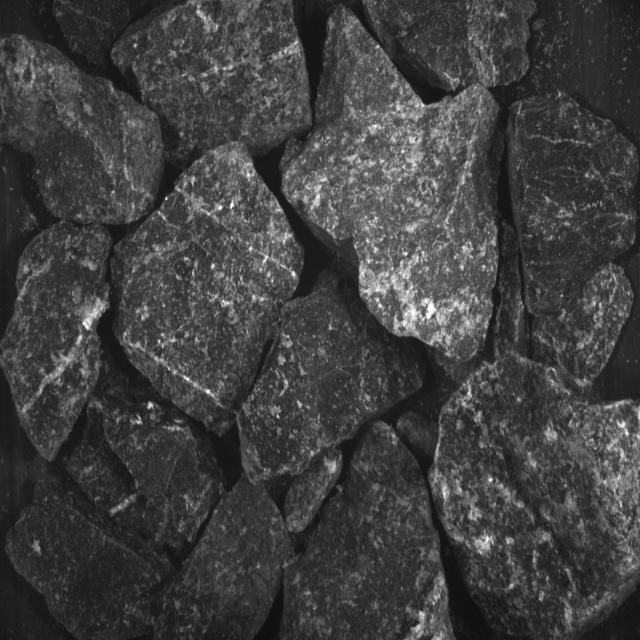Stones: (284, 7, 504, 362), (431, 359, 640, 639), (112, 143, 305, 436), (281, 422, 455, 640), (239, 289, 424, 484), (112, 1, 312, 169), (1, 36, 165, 226), (509, 93, 640, 316), (7, 482, 175, 640), (1, 222, 112, 461), (66, 393, 225, 553), (156, 476, 294, 640), (365, 1, 536, 93), (531, 264, 635, 382), (285, 449, 344, 534)
